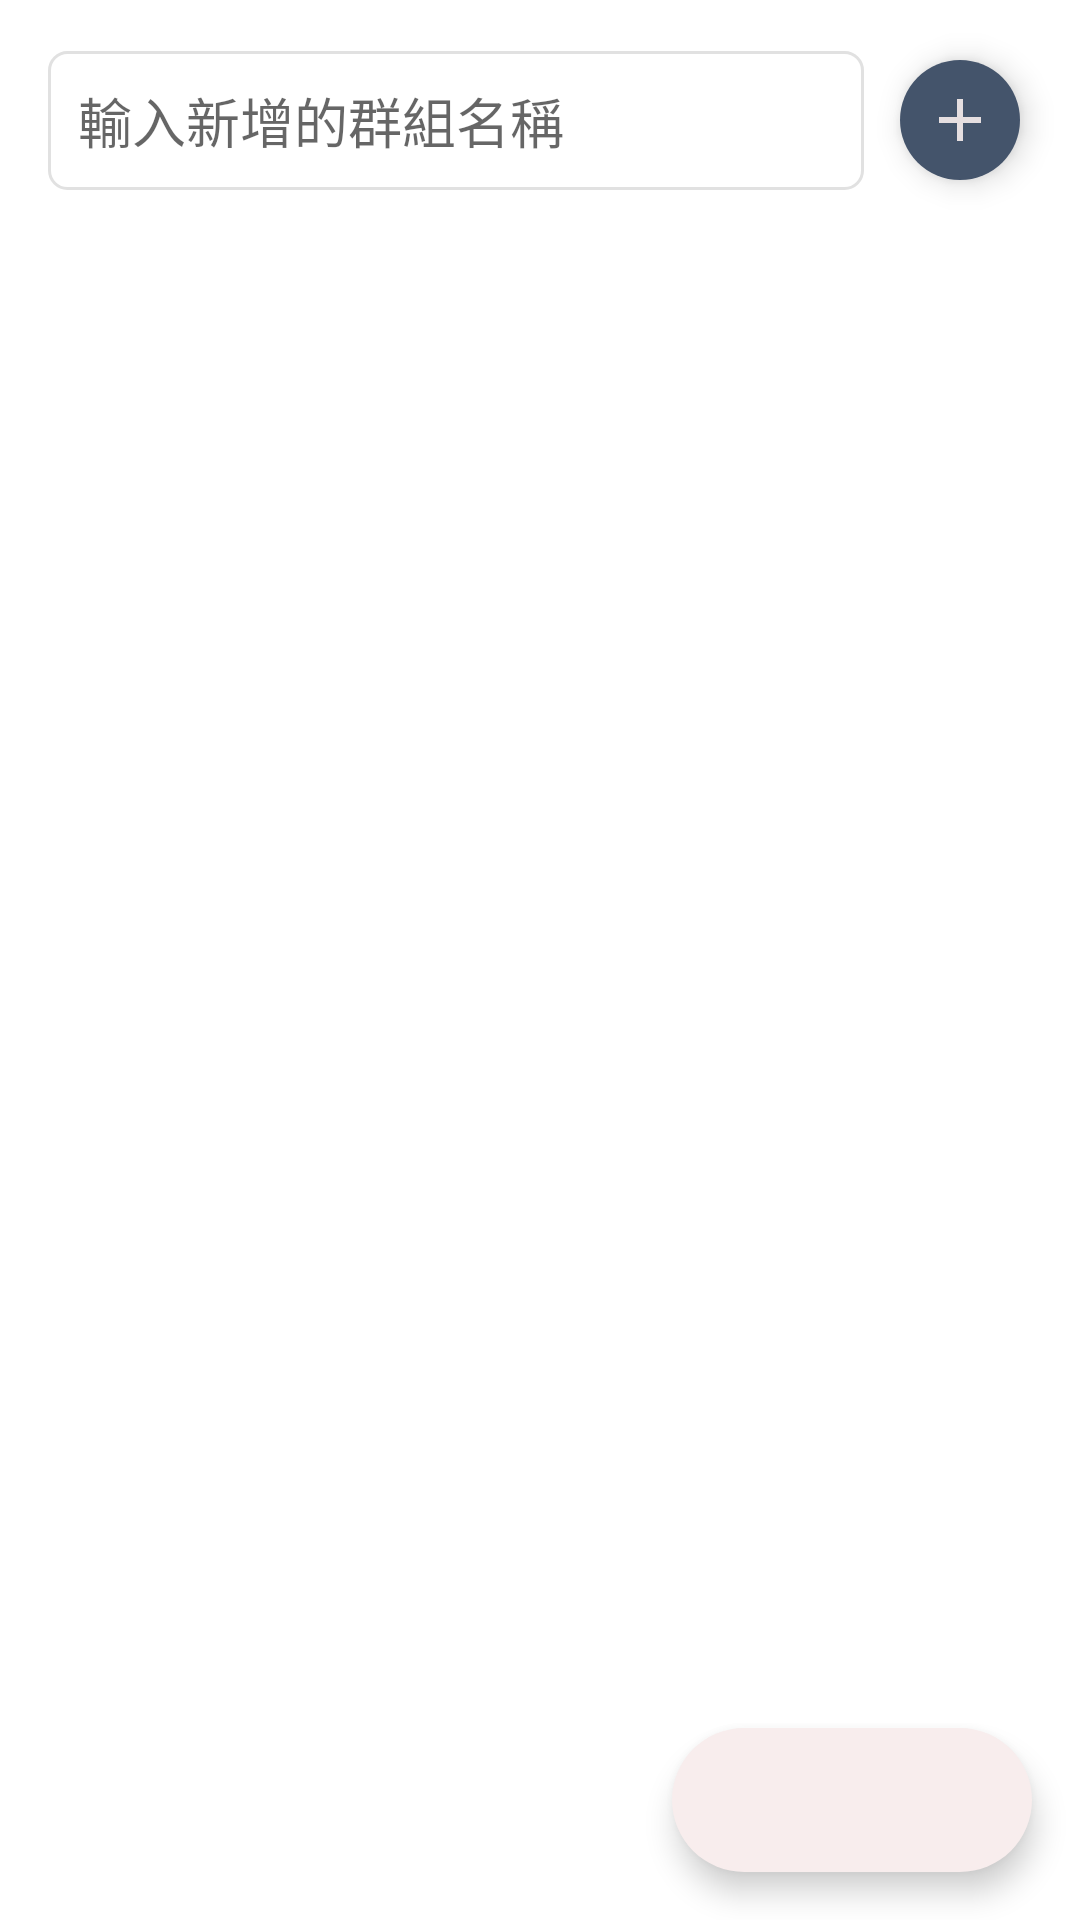

Locate icon controls on the screen. Image size 1080px x 1920px, boxes as (x1, y1, x2, y2).
add: (900, 60, 1022, 180)
